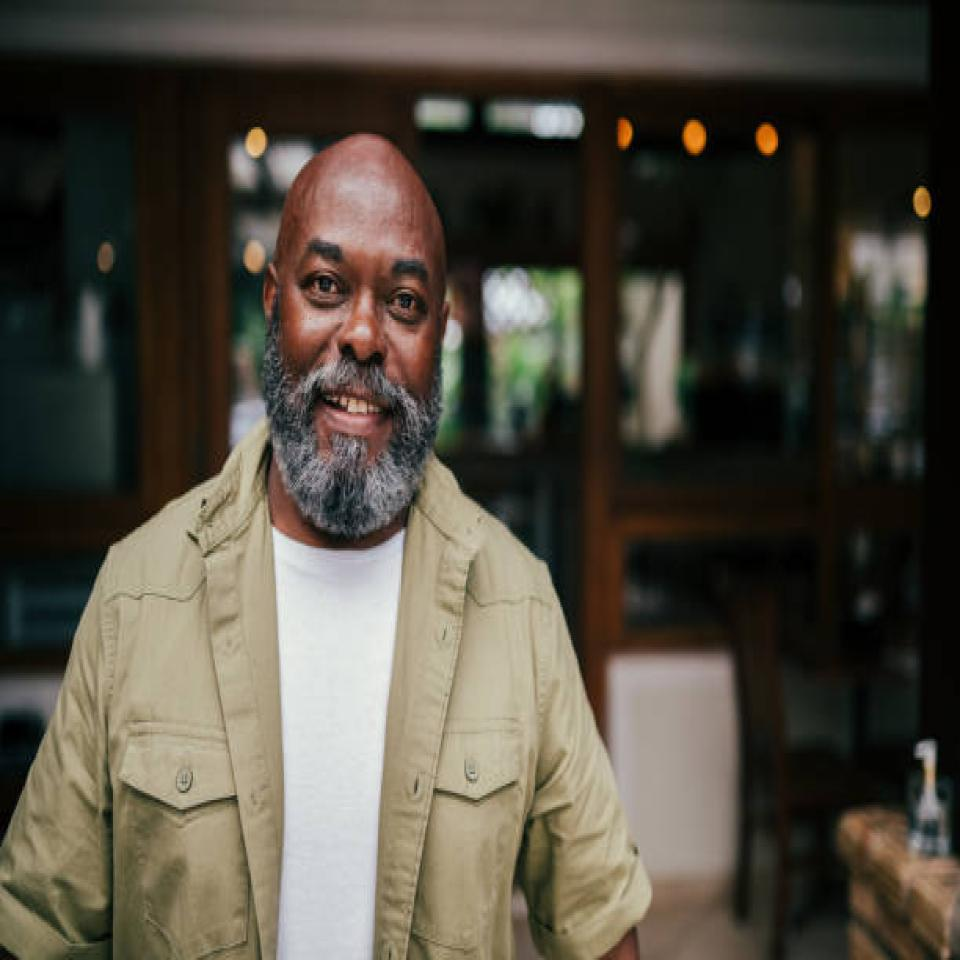Happiness: (291, 221, 427, 486)
